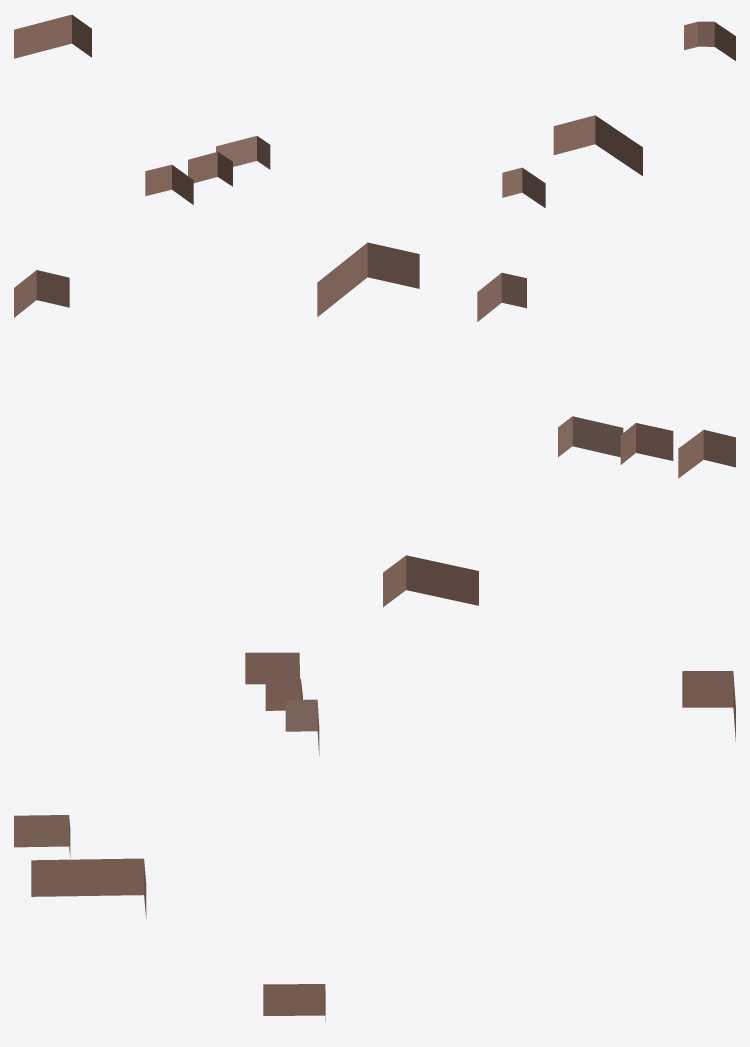
File: c_1634_17821_buildings_residential.glb
The picture shows the model from 3 angles, top to bottom: view 1: azimuth 30°, elevation 25°; view 2: azimuth 150°, elevation 25°; view 3: azimuth 270°, elevation 25°; orthographic projection. The views are drawn at different scales.
Visible parts, largest first — view 1: geometry_0; view 2: geometry_0; view 3: geometry_0.
Boxes of the visible parts, x1,y1,x2,y2 form: geometry_0: [14, 14, 735, 207]; geometry_0: [14, 242, 735, 607]; geometry_0: [14, 652, 735, 1021].
Size of the model in its own units: 228 by 11.69 by 196.
